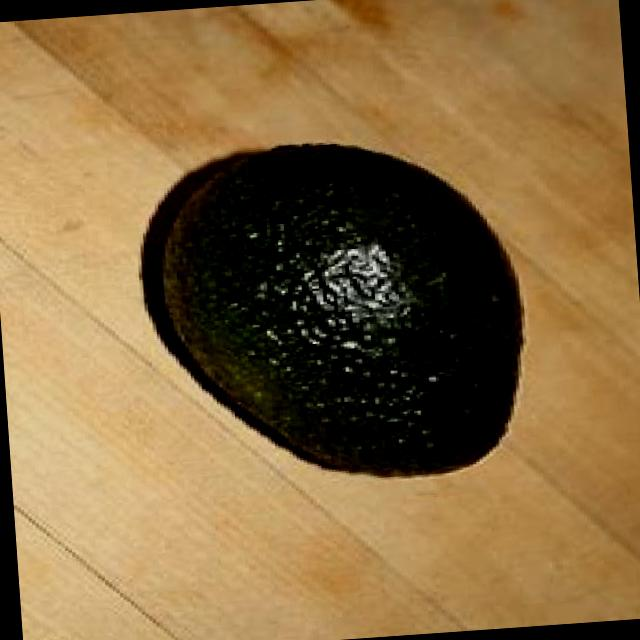avocado: (135, 122, 538, 496)
